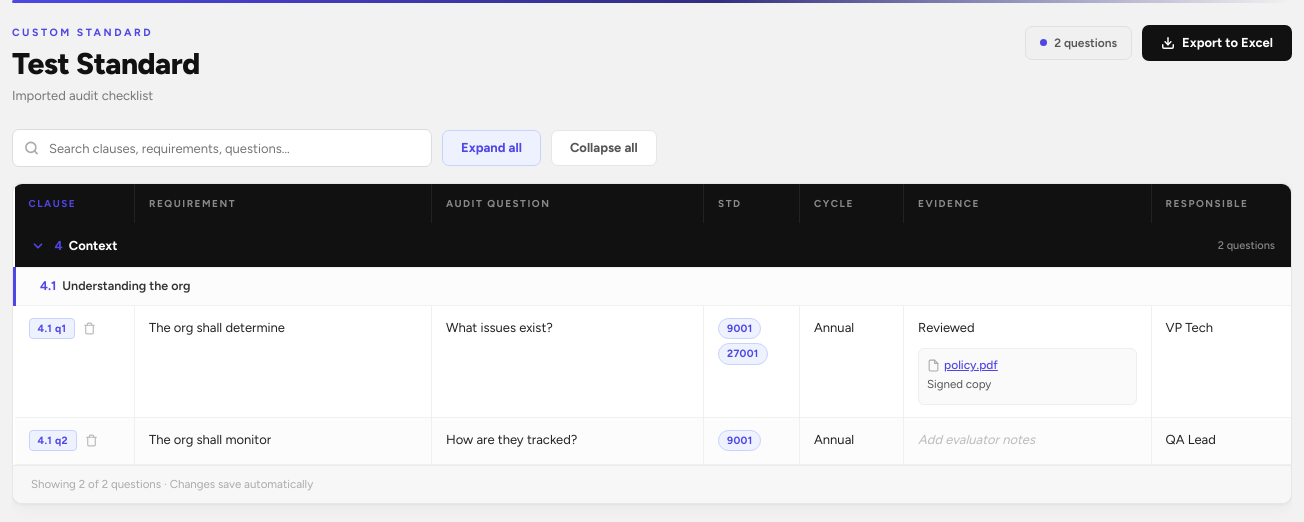
it: ChecklistPage › collapses a section
The width and height of the screenshot is (1304, 522).
Step 1. Click the button "4Context 2 questions" → (93, 246), box [14,225,1291,267]
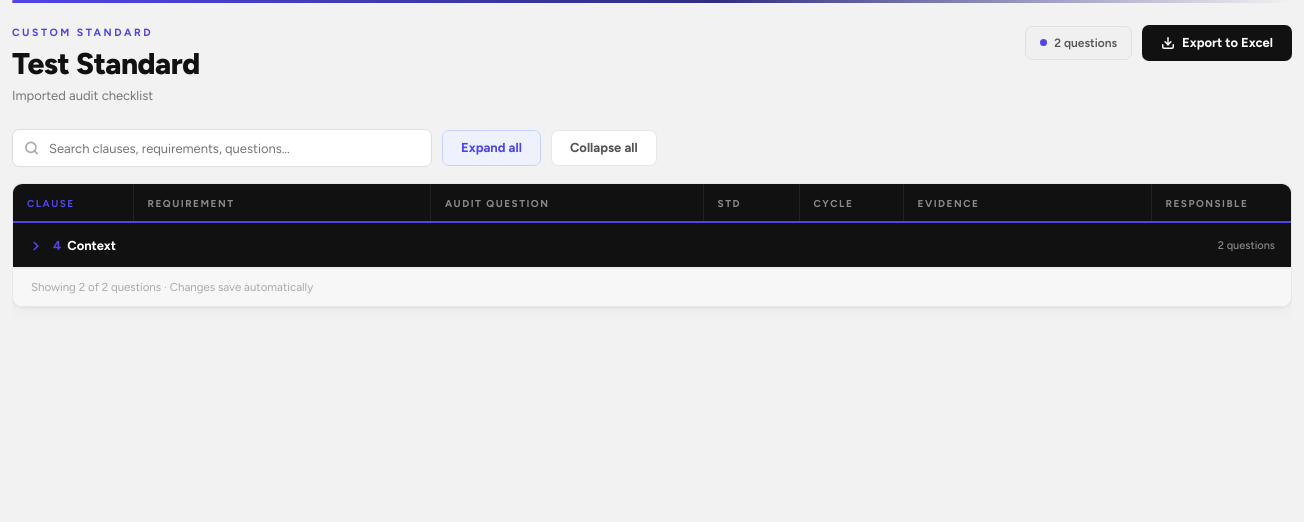
Expected: the text "What issues exist?" is gone
